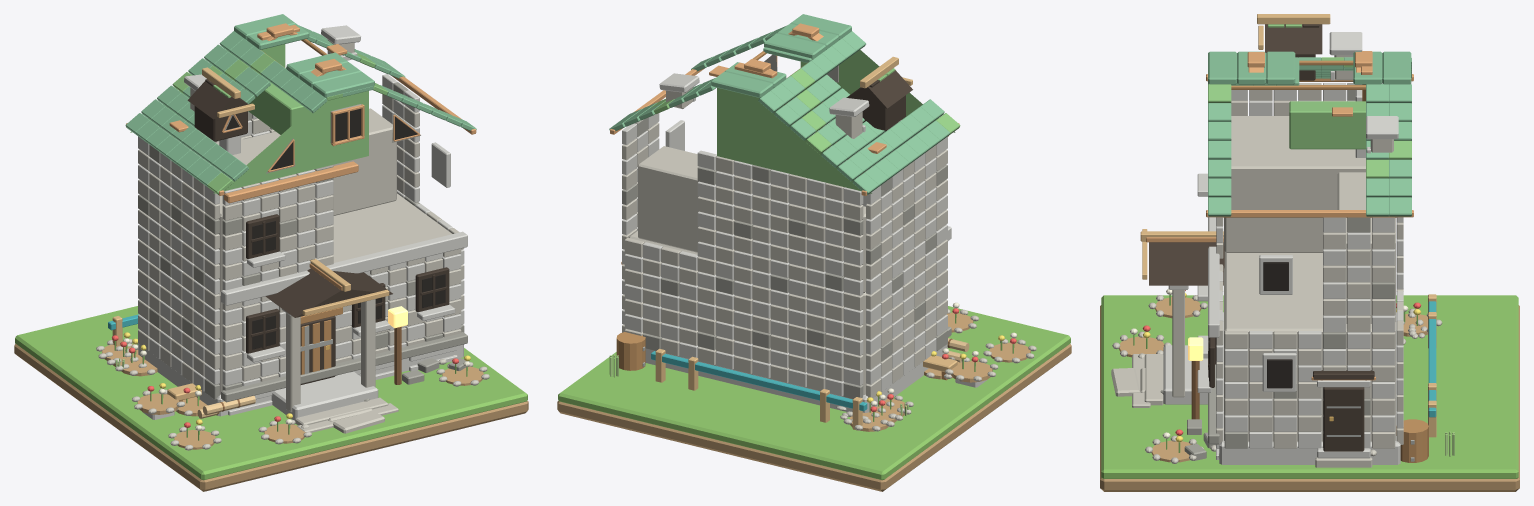
File: stone_house_l06_damaged.glb
The picture shows the model from 3 angles, left to right: view 1: azimuth 30°, elevation 25°; view 2: azimuth 150°, elevation 25°; view 3: azimuth 270°, elevation 25°; orthographic projection. The views are drawn at different scales.
Parts seen in each view (by area): view 1: stone_house_grass_tile.004, stone_house_earth_tile.004, pilot_stone_house_l06_green_third_floor_front_wall.004, pilot_stone_house_l06_lower_surviving_body, pilot_stone_house_l06_upper_rear_survivor, pilot_stone_house_l06_continuous_front_band_1.004, pilot_stone_house_l06_porch_canopy_gable_roof.002, pilot_stone_house_l06_porch_landing.002, pilot_stone_house_l06_continuous_front_band_0.004, pilot_stone_house_l06_broken_green_third_floor, pilot_stone_house_l06_continuous_front_band_2.36000000000000, pilot_stone_house_l06_unified_foundation_stone_block_medium_ (+26 smaller); view 2: stone_house_grass_tile.004, pilot_stone_house_l06_green_third_floor_back_wall.004, stone_house_earth_tile.004, pilot_stone_house_l06_upper_rear_survivor, pilot_stone_house_l06_yard_fence_rail.004, pilot_stone_house_l06_unified_foundation_stone_block_medium_, pilot_stone_house_l06_green_third_floor_front_wall.004, pilot_stone_house_l06_attic_dormer_green_roof_gable_roof.002, pilot_stone_house_l06_yard_barrel_barrel_body.004, pilot_stone_house_l06_crest_tile_6.002, pilot_stone_house_l06_crest_tile_2.002, pilot_stone_house_l06_attic_dormer_stone_body.002 (+5 smaller); view 3: stone_house_grass_tile.004, pilot_stone_house_l06_upper_left_survivor, pilot_stone_house_l06_lower_surviving_body, stone_house_earth_tile.004, pilot_stone_house_l06_broken_green_third_floor, pilot_stone_house_l06_porch_canopy_gable_roof.002, pilot_stone_house_l06_side_entry_door.002, pilot_stone_house_l06_unified_foundation_stone_block_medium_, pilot_stone_house_l06_upper_rear_survivor, pilot_stone_house_l06_attic_dormer_green_roof_gable_roof.002, pilot_stone_house_l06_porch_stone_column_1.002, pilot_stone_house_l06_porch_landing.002 (+42 smaller).
Boxes of the visible parts, x1,y1,x2,y2 form: stone_house_grass_tile.004: [15, 306, 527, 480]; stone_house_earth_tile.004: [14, 343, 528, 491]; pilot_stone_house_l06_green_third_floor_front_wall.004: [213, 91, 368, 193]; pilot_stone_house_l06_lower_surviving_body: [219, 193, 451, 394]; pilot_stone_house_l06_upper_rear_survivor: [244, 108, 396, 215]; pilot_stone_house_l06_continuous_front_band_1.004: [221, 231, 467, 305]; pilot_stone_house_l06_porch_canopy_gable_roof.002: [265, 268, 392, 317]; pilot_stone_house_l06_porch_landing.002: [271, 371, 378, 420]; pilot_stone_house_l06_continuous_front_band_0.004: [221, 332, 467, 402]; pilot_stone_house_l06_broken_green_third_floor: [248, 73, 308, 134]; pilot_stone_house_l06_continuous_front_band_2.36000000000000: [224, 161, 358, 203]; pilot_stone_house_l06_unified_foundation_stone_block_medium_: [138, 344, 463, 416]; stone_house_grass_tile.004: [558, 306, 1070, 480]; pilot_stone_house_l06_green_third_floor_back_wall.004: [717, 87, 871, 193]; stone_house_earth_tile.004: [557, 344, 1071, 491]; pilot_stone_house_l06_upper_rear_survivor: [638, 146, 698, 252]; pilot_stone_house_l06_yard_fence_rail.004: [651, 351, 867, 411]; pilot_stone_house_l06_unified_foundation_stone_block_medium_: [645, 344, 947, 412]; pilot_stone_house_l06_green_third_floor_front_wall.004: [800, 50, 955, 132]; pilot_stone_house_l06_attic_dormer_green_roof_gable_roof.002: [846, 70, 912, 108]; pilot_stone_house_l06_yard_barrel_barrel_body.004: [616, 332, 645, 370]; pilot_stone_house_l06_crest_tile_6.002: [711, 71, 773, 97]; pilot_stone_house_l06_crest_tile_2.002: [764, 33, 825, 59]; pilot_stone_house_l06_attic_dormer_stone_body.002: [862, 95, 905, 130]; stone_house_grass_tile.004: [1101, 295, 1518, 478]; pilot_stone_house_l06_upper_left_survivor: [1224, 116, 1365, 252]; pilot_stone_house_l06_lower_surviving_body: [1224, 252, 1395, 441]; stone_house_earth_tile.004: [1100, 305, 1519, 491]; pilot_stone_house_l06_broken_green_third_floor: [1289, 101, 1365, 149]; pilot_stone_house_l06_porch_canopy_gable_roof.002: [1149, 242, 1224, 285]; pilot_stone_house_l06_side_entry_door.002: [1323, 387, 1364, 451]; pilot_stone_house_l06_unified_foundation_stone_block_medium_: [1219, 312, 1400, 464]; pilot_stone_house_l06_upper_rear_survivor: [1337, 172, 1395, 323]; pilot_stone_house_l06_attic_dormer_green_roof_gable_roof.002: [1265, 24, 1322, 54]; pilot_stone_house_l06_porch_stone_column_1.002: [1172, 290, 1184, 397]; pilot_stone_house_l06_porch_landing.002: [1163, 345, 1207, 404].
Bounding box in the file's own units: 3.6 × 3.46 × 3.6.
